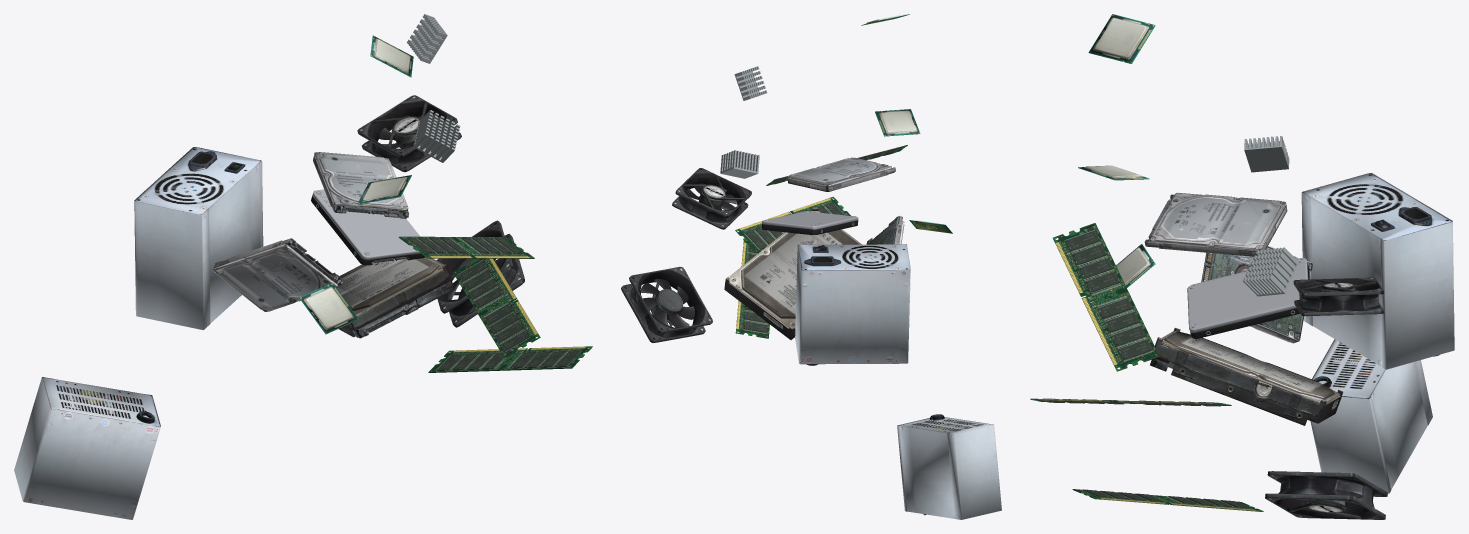
The model's file is computer-parts.glb.
The picture shows the model from 3 angles, left to right: view 1: azimuth 30°, elevation 25°; view 2: azimuth 150°, elevation 25°; view 3: azimuth 270°, elevation 25°; orthographic projection. The views are drawn at different scales.
Parts seen in each view (by area): view 1: PSU (×2), PSU.001 (×2), 2.5inch_HDD.005, RAM.002, 3.5inch_HDD.004, 2.5inch_SSD, FAN.004 (×3), RAM, 2.5inch_HDD.003, RAM.001, FAN.000 (×2), CPU (+6 smaller); view 2: PSU (×2), PSU.001 (×2), 3.5inch_HDD.004, FAN.000 (×2), FAN.004 (×3), 2.5inch_SSD (×2), FAN.001, 2.5inch_HDD.003, RAM.002, RAM, CPU.001, HeatSink (+3 smaller); view 3: PSU (×2), PSU.001 (×2), RAM.001, 2.5inch_HDD.003, 2.5inch_SSD (×2), FAN.000 (×3), 3.5inch_HDD.003, 3.5inch_HDD.004, FAN.004 (×2), CPU.002, HeatSink, 2.5inch_HDD.004 (+6 smaller).
Part boxes in pixels (x1,y1,x2,y2): PSU (×2): [134, 147, 263, 330]; PSU.001 (×2): [14, 377, 160, 519]; 2.5inch_HDD.005: [213, 246, 337, 311]; RAM.002: [453, 258, 540, 358]; 3.5inch_HDD.004: [336, 257, 443, 314]; 2.5inch_SSD: [312, 189, 420, 259]; FAN.004 (×3): [357, 95, 461, 172]; RAM: [428, 346, 592, 372]; 2.5inch_HDD.003: [314, 152, 408, 208]; RAM.001: [398, 236, 534, 258]; FAN.000 (×2): [436, 220, 524, 327]; CPU: [299, 283, 358, 334]; PSU (×2): [795, 244, 910, 364]; PSU.001 (×2): [897, 417, 1001, 519]; 3.5inch_HDD.004: [729, 211, 861, 327]; FAN.000 (×2): [621, 266, 712, 342]; FAN.004 (×3): [672, 168, 751, 229]; 2.5inch_SSD (×2): [762, 211, 858, 234]; FAN.001: [640, 279, 694, 327]; 2.5inch_HDD.003: [787, 157, 891, 185]; RAM.002: [735, 196, 850, 252]; RAM: [735, 240, 769, 338]; CPU.001: [875, 109, 920, 136]; HeatSink: [720, 150, 759, 178]; PSU (×2): [1301, 173, 1454, 369]; PSU.001 (×2): [1310, 339, 1432, 493]; RAM.001: [1053, 223, 1159, 371]; 2.5inch_HDD.003: [1150, 193, 1285, 249]; 2.5inch_SSD (×2): [1187, 258, 1309, 338]; FAN.000 (×3): [1265, 471, 1387, 519]; 3.5inch_HDD.003: [1155, 328, 1342, 425]; 3.5inch_HDD.004: [1161, 331, 1340, 402]; FAN.004 (×2): [1293, 277, 1384, 316]; CPU.002: [1088, 14, 1155, 63]; HeatSink: [1243, 247, 1299, 296]; 2.5inch_HDD.004: [1210, 245, 1312, 341].
Size of the model in its own units: 16.34 by 16.28 by 11.39.
25 materials, 22 textured.
